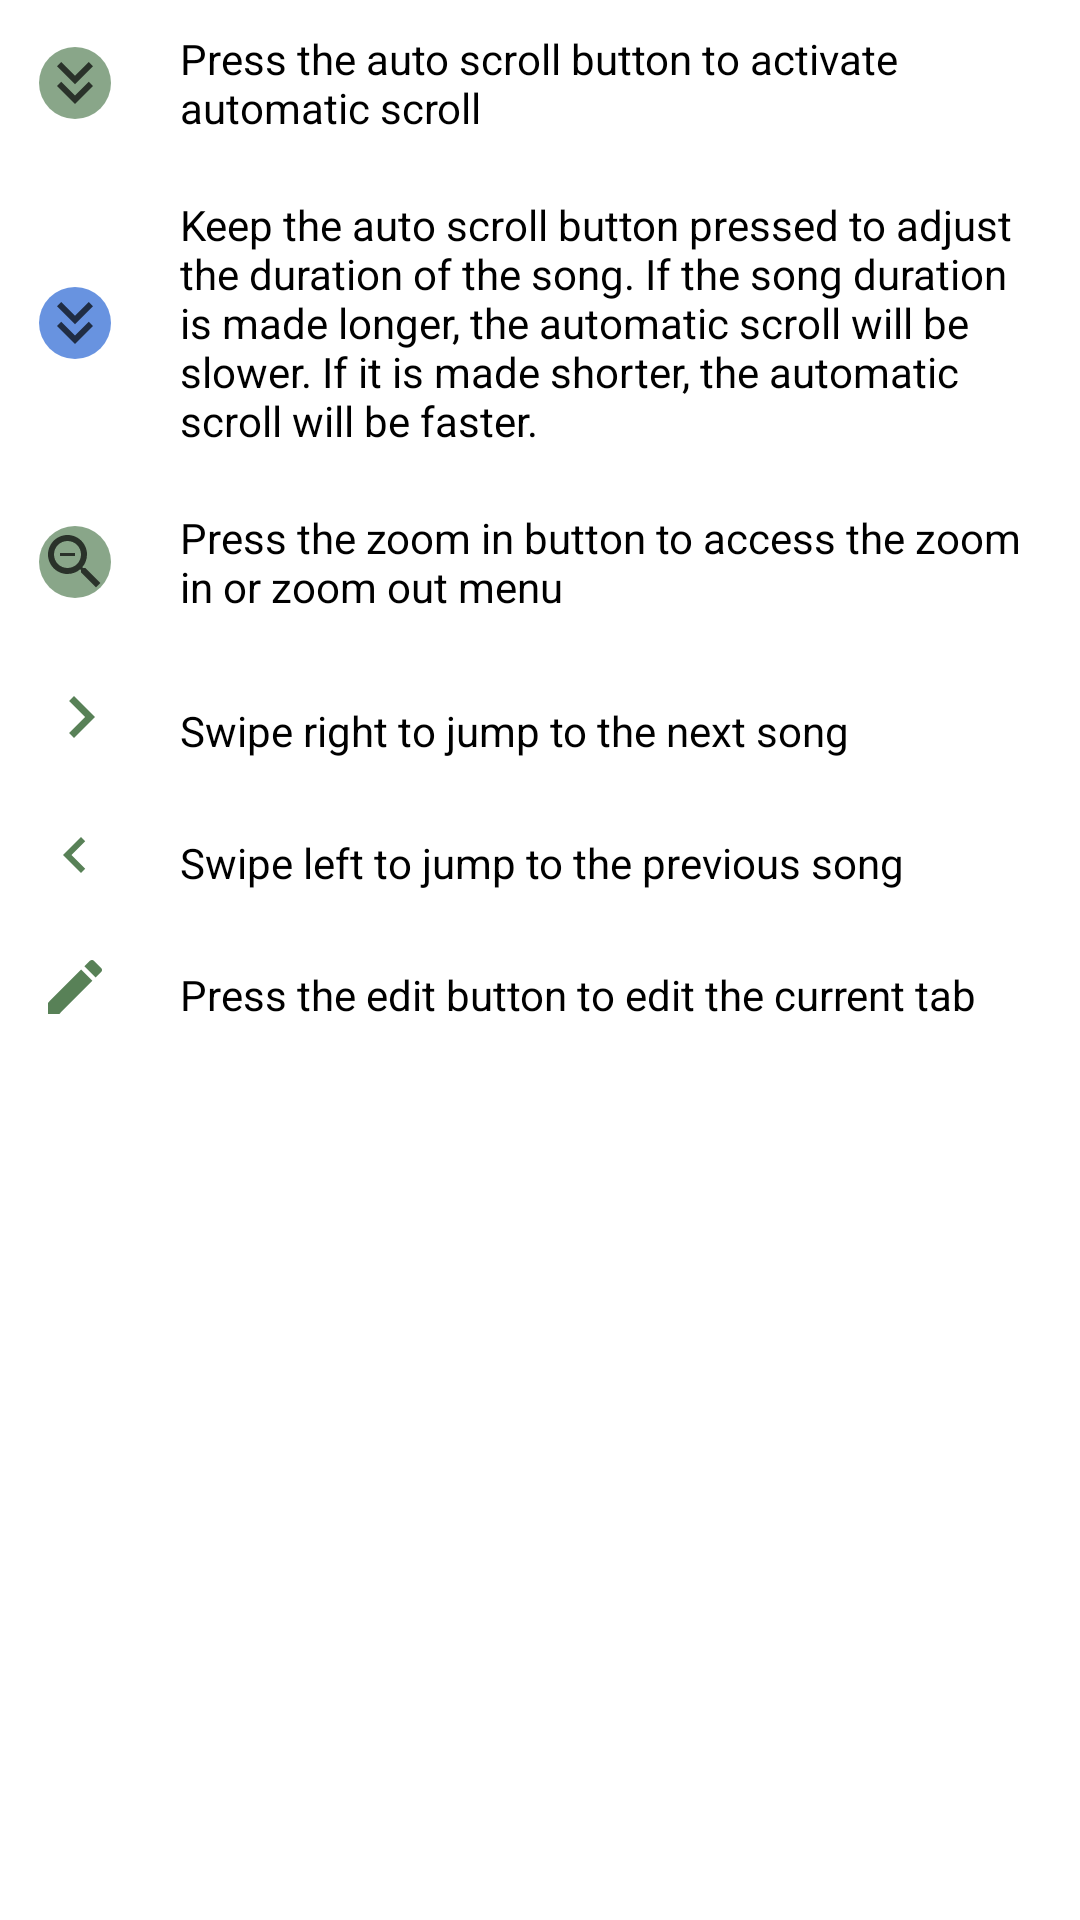

Where icons sit on this 1080 x 1920 app screen, as bbox=[x1, y1, x2, y2]:
chevron left: bbox=[63, 837, 85, 873]
keyboard arrow right: bbox=[69, 696, 95, 738]
keyboard double arrow down: bbox=[39, 47, 111, 119], bbox=[39, 287, 111, 359]
